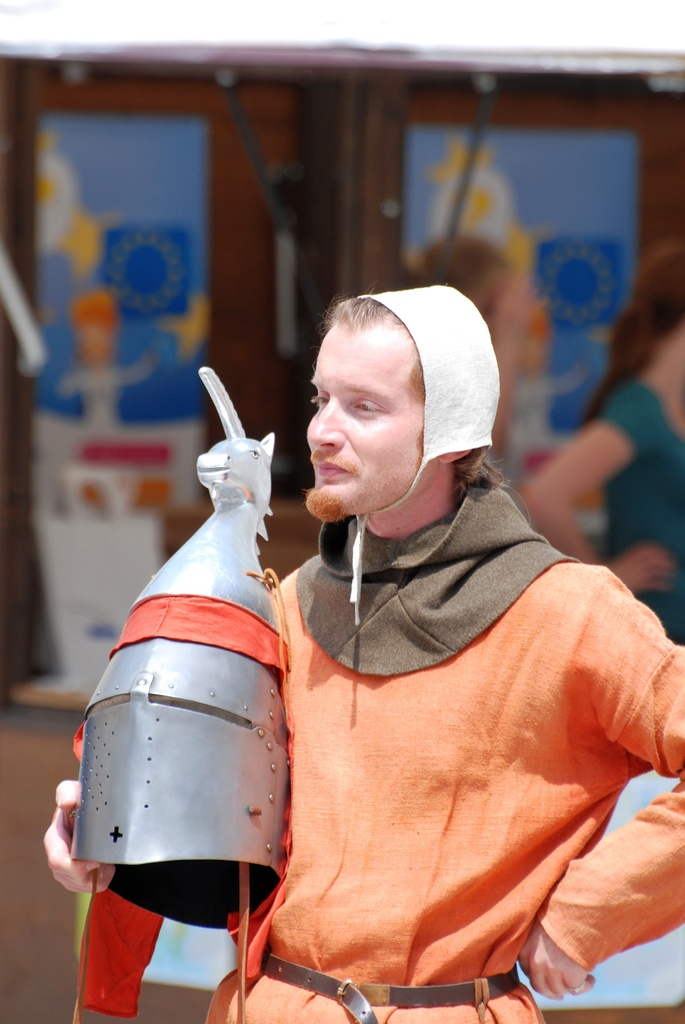Human_hand: (39, 776, 118, 893), (516, 924, 594, 997), (606, 540, 682, 593)
